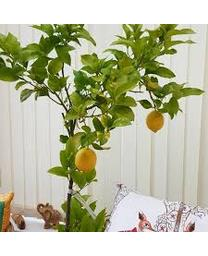lemon: (74, 147, 97, 170), (146, 111, 164, 133)
